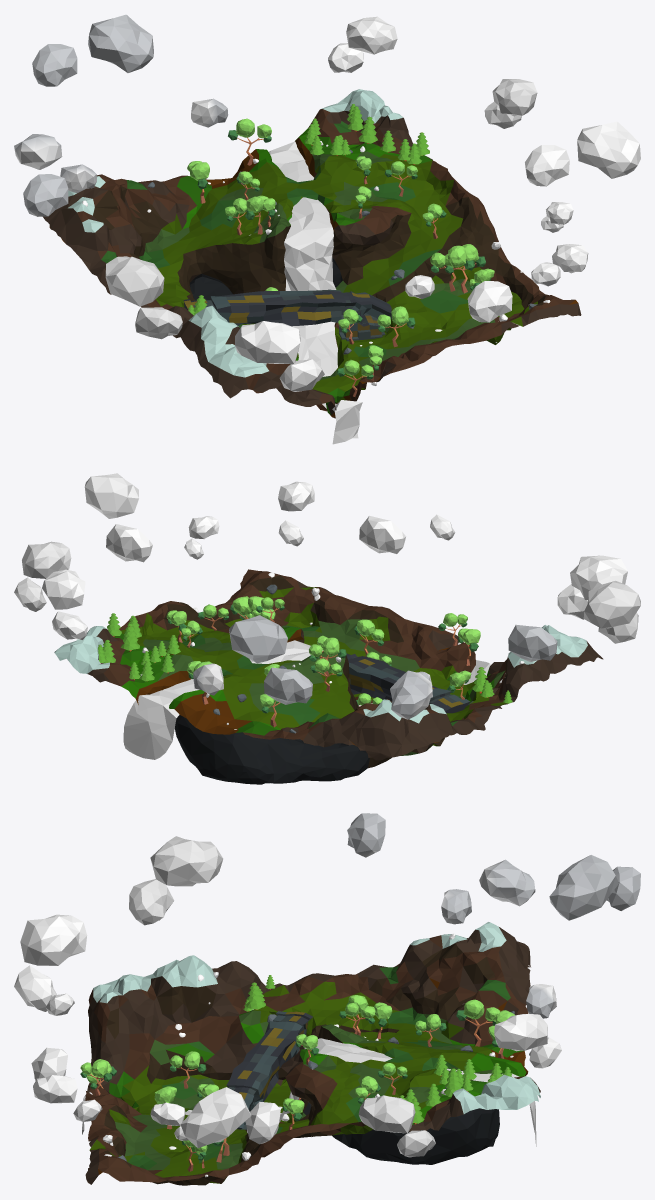
File: WaterFall_Track.fbx
3 views of the same model, one above another, from view 1: azimuth 30°, elevation 25°; view 2: azimuth 150°, elevation 25°; view 3: azimuth 270°, elevation 25° (orthographic). The views are drawn at different scales.
Visible parts, largest first — view 1: Landscape_Low, Water_Low, Icosphere.007, Tower, Icosphere.001, Icosphere.008, Icosphere.002, Icosphere.004, Icosphere.003, Icosphere.006, Icosphere.009, Landscape_Low|Cube.002|Dupli|10.1 (+3 smaller); view 2: Landscape_Low, Icosphere.007, Icosphere.001, Water_Low, Icosphere.008, Tower, Icosphere.004, Icosphere.002, Icosphere.009, Icosphere.003, Icosphere.006, Icosphere.005 (+3 smaller); view 3: Landscape_Low, Icosphere.007, Icosphere.001, Icosphere.008, Icosphere.002, Tower, Icosphere.004, Icosphere.009, Icosphere.003, Icosphere.006, Water_Low, Icosphere.005 (+2 smaller).
Boxes of the visible parts, x1=… form: Landscape_Low: x1=43, y1=89, x2=581, y2=418; Water_Low: x1=269, y1=141, x2=362, y2=444; Icosphere.007: x1=23, y1=14, x2=153, y2=216; Tower: x1=183, y1=289, x2=391, y2=341; Icosphere.001: x1=467, y1=121, x2=640, y2=322; Icosphere.008: x1=105, y1=256, x2=182, y2=339; Icosphere.002: x1=235, y1=321, x2=324, y2=391; Icosphere.004: x1=14, y1=98, x2=228, y2=193; Icosphere.003: x1=328, y1=16, x2=397, y2=72; Icosphere.006: x1=405, y1=244, x2=588, y2=298; Icosphere.009: x1=484, y1=79, x2=537, y2=128; Landscape_Low|Cube.002|Dupli|10.1: x1=430, y1=245, x2=474, y2=291; Landscape_Low: x1=54, y1=569, x2=603, y2=784; Icosphere.007: x1=229, y1=615, x2=557, y2=704; Icosphere.001: x1=84, y1=473, x2=405, y2=562; Water_Low: x1=123, y1=640, x2=491, y2=759; Icosphere.008: x1=583, y1=581, x2=640, y2=643; Tower: x1=346, y1=653, x2=470, y2=713; Icosphere.004: x1=193, y1=663, x2=432, y2=719; Icosphere.002: x1=557, y1=555, x2=627, y2=619; Icosphere.009: x1=14, y1=541, x2=71, y2=611; Icosphere.003: x1=42, y1=569, x2=87, y2=639; Icosphere.006: x1=278, y1=481, x2=455, y2=546; Icosphere.005: x1=184, y1=516, x2=219, y2=559; Landscape_Low: x1=85, y1=922, x2=540, y2=1185; Icosphere.007: x1=347, y1=813, x2=640, y2=920; Icosphere.001: x1=31, y1=1047, x2=280, y2=1148; Icosphere.008: x1=129, y1=836, x2=223, y2=925; Icosphere.002: x1=14, y1=914, x2=87, y2=1011; Tower: x1=226, y1=1011, x2=312, y2=1129; Icosphere.004: x1=441, y1=859, x2=556, y2=1018; Icosphere.009: x1=358, y1=1095, x2=435, y2=1157; Icosphere.003: x1=494, y1=1013, x2=561, y2=1068; Icosphere.006: x1=33, y1=993, x2=102, y2=1121; Water_Low: x1=82, y1=1038, x2=536, y2=1146; Icosphere.005: x1=150, y1=1102, x2=188, y2=1140.
Size of the model in its own units: 153942 by 67915 by 143940.
